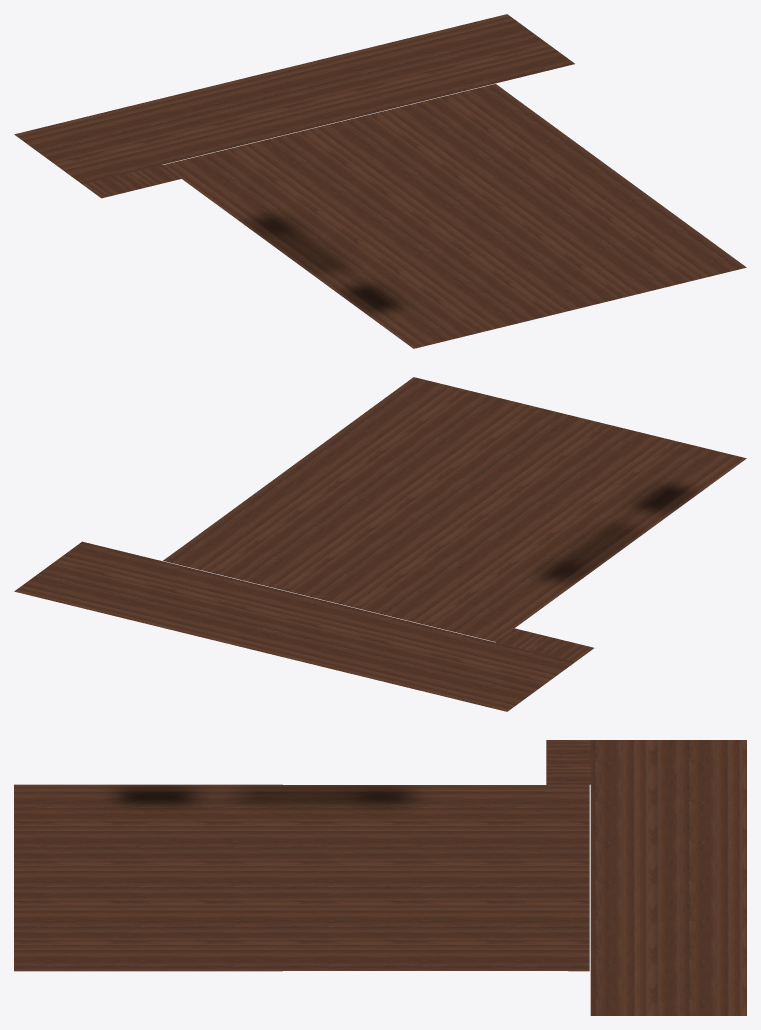
File: TraditionalKoreanHouse_Ground.fbx
3 renders of one model, top to bottom at view 1: azimuth 30°, elevation 25°; view 2: azimuth 150°, elevation 25°; view 3: azimuth 270°, elevation 25°, orthographic. The views are drawn at different scales.
Visible parts, largest first — view 1: TraditionalKoreanHouse_Ground; view 2: TraditionalKoreanHouse_Ground; view 3: TraditionalKoreanHouse_Ground.
Part boxes in pixels (bbox=[...]): TraditionalKoreanHouse_Ground: bbox=[14, 14, 746, 348]; TraditionalKoreanHouse_Ground: bbox=[14, 377, 746, 711]; TraditionalKoreanHouse_Ground: bbox=[14, 740, 746, 1015].
Size of the model in its own units: 740 by 0 by 831.
